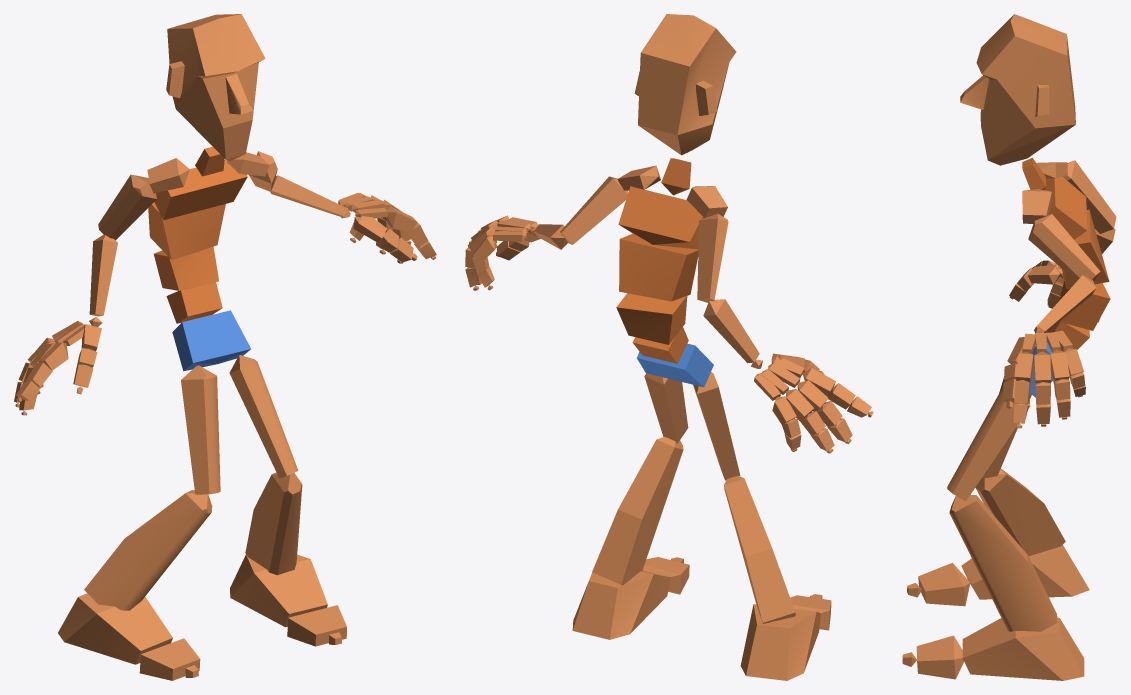
File: prueba44.obj
3 renders of one model, left to right at view 1: azimuth 30°, elevation 25°; view 2: azimuth 150°, elevation 25°; view 3: azimuth 270°, elevation 25°, orthographic.
Parts seen in each view (by area): view 1: BOPED_Head, BOPED_R_leg, BOPED_R_foot, BOPED_R_foot01, BOPED_L_leg, BOPED_R_legup, BOPED_L_legup, Bone01, Bone04, Bone05, Bone03, BOPED_R_arm_upper (+7 smaller); view 2: BOPED_Head, BOPED_L_leg, BOPED_R_foot01, BOPED_R_leg, BOPED_R_foot, Bone04, Bone05, Bone03, BOPED_R_legup, BOPED_R_arm_upper, BOPED_L_legup, BOPED_L_arm_upper (+8 smaller); view 3: BOPED_Head, BOPED_L_leg, BOPED_R_foot01, BOPED_R_leg, BOPED_L_legup, BOPED_R_foot, BOPED_L_arm_upper, Bone05, BOPED_R_foot_toe01, BOPED_R_foot_toe04, BOPED_R_arm_upper, Bone03 (+14 smaller).
Part boxes in pixels (x1=…): BOPED_Head: x1=166, y1=14, x2=265, y2=160; BOPED_R_leg: x1=84, y1=490, x2=212, y2=610; BOPED_R_foot: x1=58, y1=593, x2=172, y2=664; BOPED_R_foot01: x1=230, y1=554, x2=327, y2=627; BOPED_L_leg: x1=245, y1=472, x2=302, y2=575; BOPED_R_legup: x1=181, y1=365, x2=220, y2=494; BOPED_L_legup: x1=229, y1=355, x2=298, y2=478; Bone01: x1=172, y1=310, x2=250, y2=371; Bone04: x1=148, y1=202, x2=225, y2=259; Bone05: x1=154, y1=159, x2=247, y2=220; Bone03: x1=154, y1=246, x2=218, y2=290; BOPED_R_arm_upper: x1=98, y1=174, x2=156, y2=240; BOPED_Head: x1=634, y1=14, x2=736, y2=155; BOPED_L_leg: x1=592, y1=436, x2=683, y2=585; BOPED_R_foot01: x1=572, y1=570, x2=670, y2=639; BOPED_R_leg: x1=724, y1=475, x2=795, y2=623; BOPED_R_foot: x1=740, y1=604, x2=820, y2=680; Bone04: x1=619, y1=233, x2=698, y2=301; Bone05: x1=618, y1=186, x2=704, y2=249; Bone03: x1=616, y1=293, x2=687, y2=344; BOPED_R_legup: x1=693, y1=372, x2=740, y2=480; BOPED_R_arm_upper: x1=697, y1=213, x2=728, y2=302; BOPED_L_legup: x1=644, y1=373, x2=688, y2=443; BOPED_L_arm_upper: x1=560, y1=176, x2=628, y2=244; BOPED_Head: x1=960, y1=14, x2=1075, y2=165; BOPED_L_leg: x1=949, y1=494, x2=1057, y2=631; BOPED_R_foot01: x1=962, y1=617, x2=1084, y2=680; BOPED_R_leg: x1=975, y1=468, x2=1065, y2=556; BOPED_L_legup: x1=947, y1=386, x2=1030, y2=501; BOPED_R_foot: x1=961, y1=545, x2=1089, y2=599; BOPED_L_arm_upper: x1=1028, y1=214, x2=1100, y2=280; Bone05: x1=1045, y1=176, x2=1087, y2=239; BOPED_R_foot_toe01: x1=918, y1=563, x2=970, y2=606; BOPED_R_foot_toe04: x1=916, y1=635, x2=963, y2=679; BOPED_R_arm_upper: x1=1063, y1=160, x2=1116, y2=233; Bone03: x1=1059, y1=281, x2=1110, y2=330.
Size of the model in its own units: 130 by 184 by 58.09.
